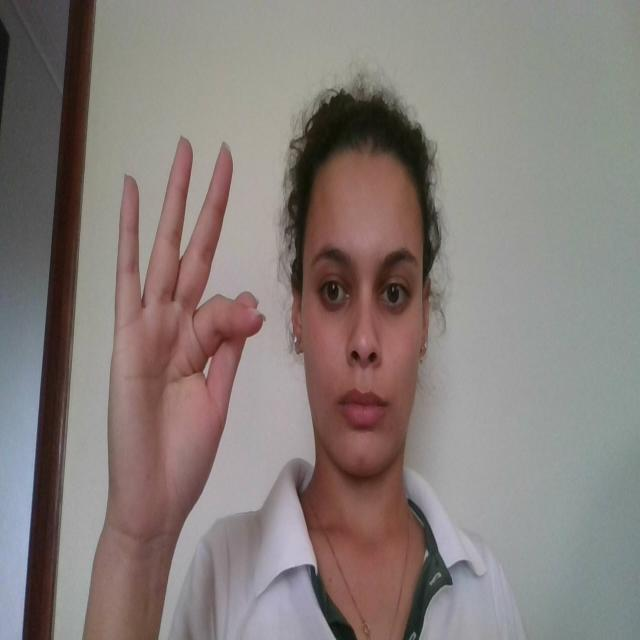F: (109, 130, 270, 530)
